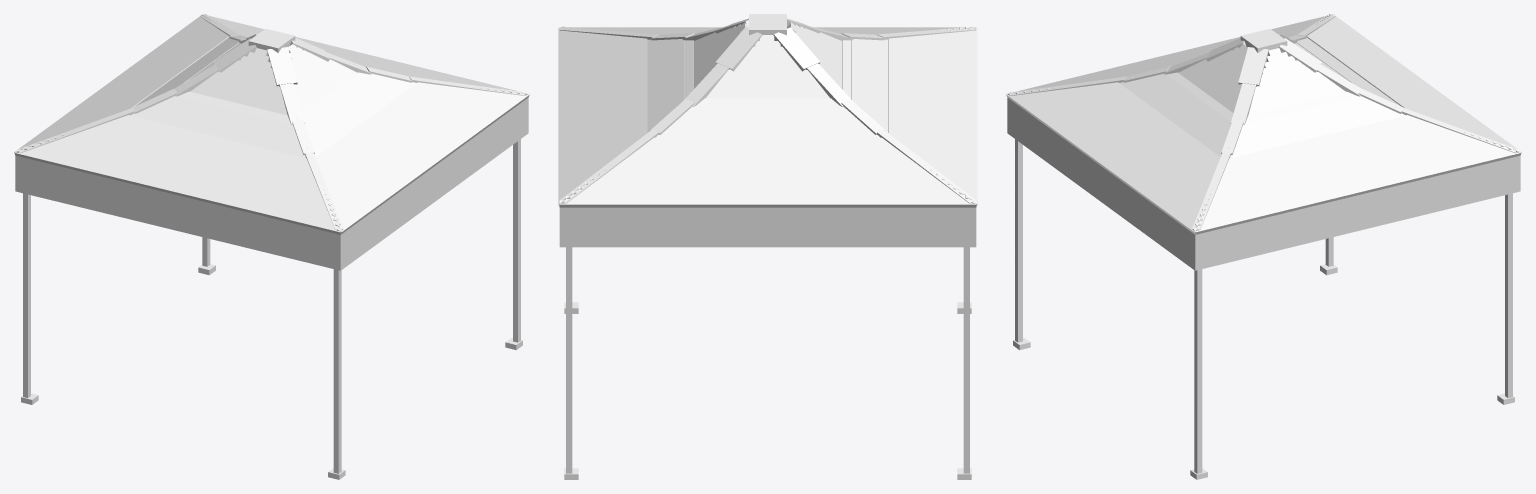
Rendered from tent_blue_baituan_y30.obj.
3 renders of one model, left to right at view 1: azimuth 30°, elevation 25°; view 2: azimuth 150°, elevation 25°; view 3: azimuth 270°, elevation 25°, orthographic. The views are drawn at different scales.
Visible parts, largest first — view 1: text2, text3, cube1.005, stem3, cube1.004, stem1, stem4, cube2.005, cube3.005, cube4.005, cube5.001, cube6.001 (+48 smaller); view 2: text1, cube1.003, cube2.003, cube3.003, cube4.003, cube5, cube6, cube7, cube8, stem1, stem2, cube13 (+71 smaller); view 3: text0, text3, cube1.006, stem4, cube1.004, stem2, stem3, cube2.006, cube3.006, cube4.006, cube5.002, cube6.002 (+48 smaller).
Boxes of the visible parts, x1,y1,x2,y2 form: text2: (15,155,343,270); text3: (343,99,525,268); cube1.005: (14,149,342,234); stem3: (333,269,341,473); cube1.004: (336,92,529,236); stem1: (23,193,30,397); stem4: (513,139,520,342); cube2.005: (22,146,340,227); cube3.005: (30,144,338,222); cube4.005: (38,141,335,216); cube5.001: (46,139,333,211); cube6.001: (54,136,331,206); text1: (566,207,969,247); cube1.003: (559,200,976,207); cube2.003: (566,196,969,200); cube3.003: (572,191,963,195); cube4.003: (578,187,957,191); cube5: (585,182,950,186); cube6: (591,178,944,182); cube7: (597,173,938,177); cube8: (604,169,931,173); stem1: (963,247,969,473); stem2: (566,247,572,473); cube13: (636,146,899,151); text0: (1192,156,1520,270); text3: (1010,99,1192,268); cube1.006: (1192,149,1521,235); stem4: (1194,269,1202,473); cube1.004: (1006,92,1198,236); stem2: (1505,193,1512,397); stem3: (1015,139,1022,342); cube2.006: (1195,146,1513,227); cube3.006: (1197,144,1505,222); cube4.006: (1200,141,1497,216); cube5.002: (1202,139,1489,211); cube6.002: (1204,136,1481,206).
Bounding box in the file's own units: 5.09 × 3.66 × 5.09.
